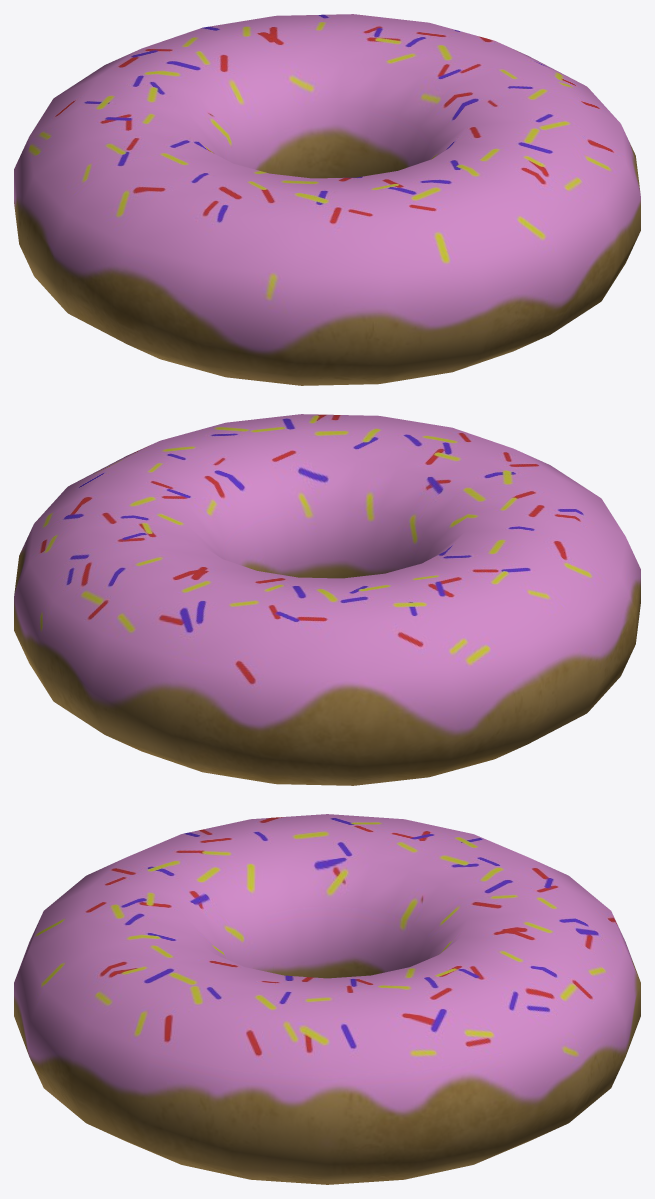
The model's file is pink_donut.glb.
3 views of the same model, one above another, from view 1: azimuth 30°, elevation 25°; view 2: azimuth 150°, elevation 25°; view 3: azimuth 270°, elevation 25° (orthographic).
Parts seen in each view (by area): view 1: Low_Poly; view 2: Low_Poly; view 3: Low_Poly.
Boxes of the visible parts, bbox=[...] form: Low_Poly: bbox=[14, 14, 640, 385]; Low_Poly: bbox=[14, 414, 640, 785]; Low_Poly: bbox=[14, 814, 640, 1184].
Size of the model in its own units: 2.1 by 0.6358 by 2.1.
1 material, 1 textured.
